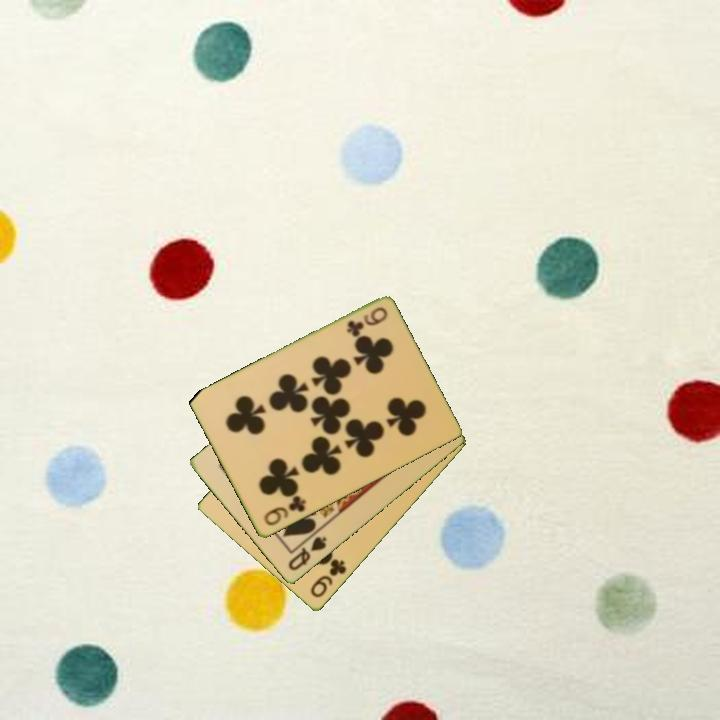9c: (307, 556, 349, 601), (260, 492, 308, 529), (343, 304, 391, 339)
Qs: (284, 533, 330, 574)
